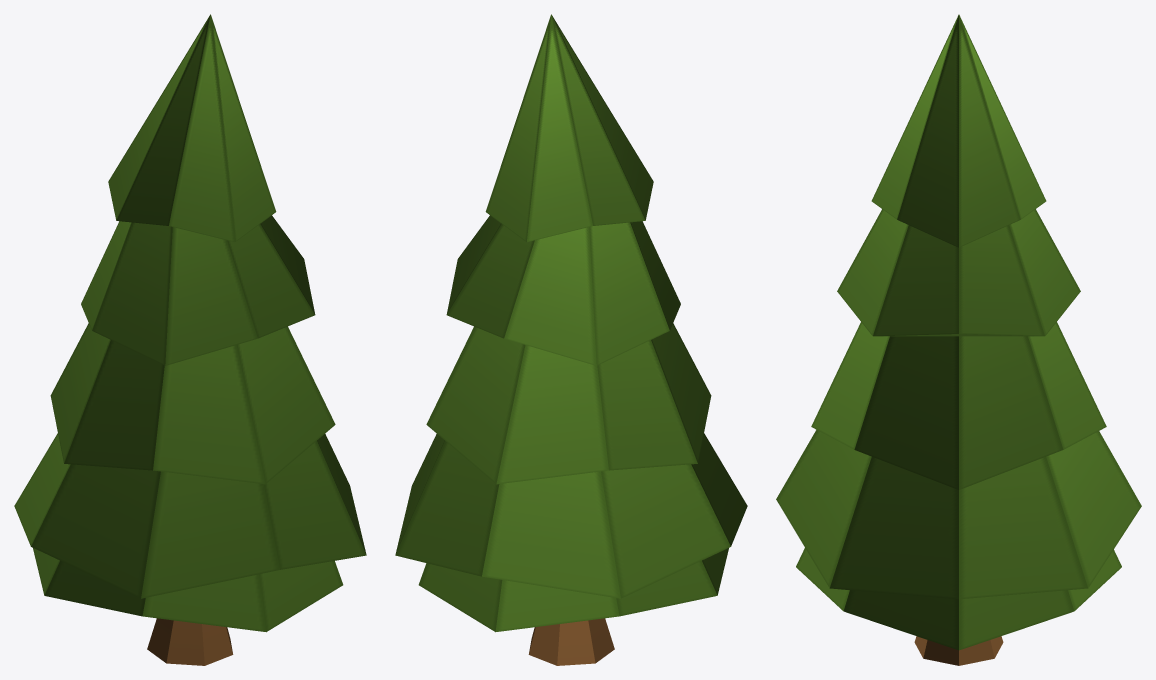
File: low_poly_tree_concept.obj
3 renders of one model, left to right at view 1: azimuth 30°, elevation 25°; view 2: azimuth 150°, elevation 25°; view 3: azimuth 270°, elevation 25°, orthographic. The views are drawn at different scales.
Parts seen in each view (by area): view 1: obj1; view 2: obj1; view 3: obj1.
Boxes of the visible parts, box(x1,y1,x2,y2) form: obj1: box(14, 14, 366, 665); obj1: box(395, 14, 747, 665); obj1: box(776, 14, 1141, 665).
Size of the model in its own units: 232 by 438 by 226.
